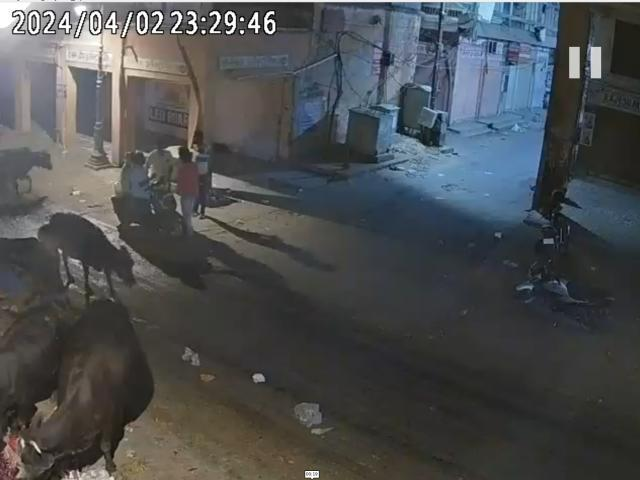cattle: (14, 301, 154, 480), (0, 294, 60, 426), (52, 208, 136, 298), (0, 144, 53, 196)
motorbike: (515, 256, 613, 337), (537, 194, 573, 259)
no_helmet: (132, 150, 147, 166)
person: (175, 146, 197, 236)
scooty-rider: (110, 150, 185, 235)
